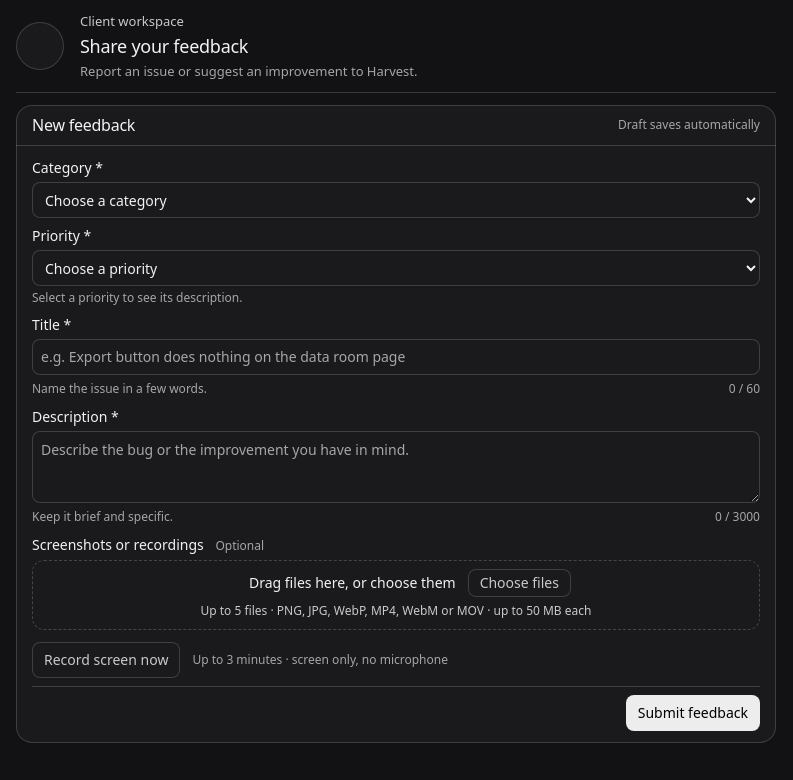
it: blocks double submission and preserves form/draft when create fails
Select "Data room" in the dropdown labelled "Category *" at (396, 200), box [32,182,760,218]
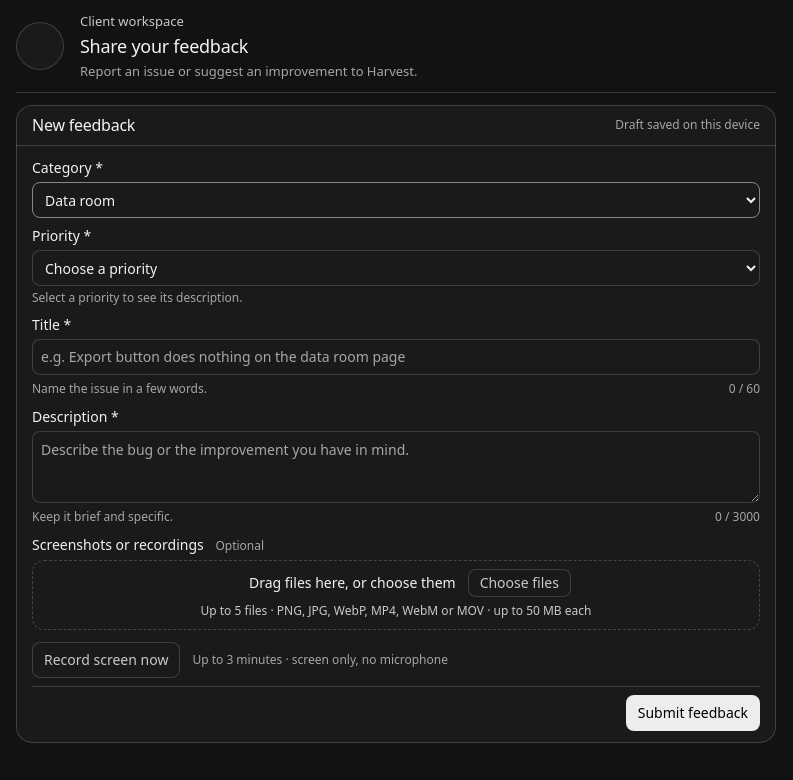
Select "Bug" in the dropdown labelled "Priority *" at (396, 268), box [32,250,760,286]
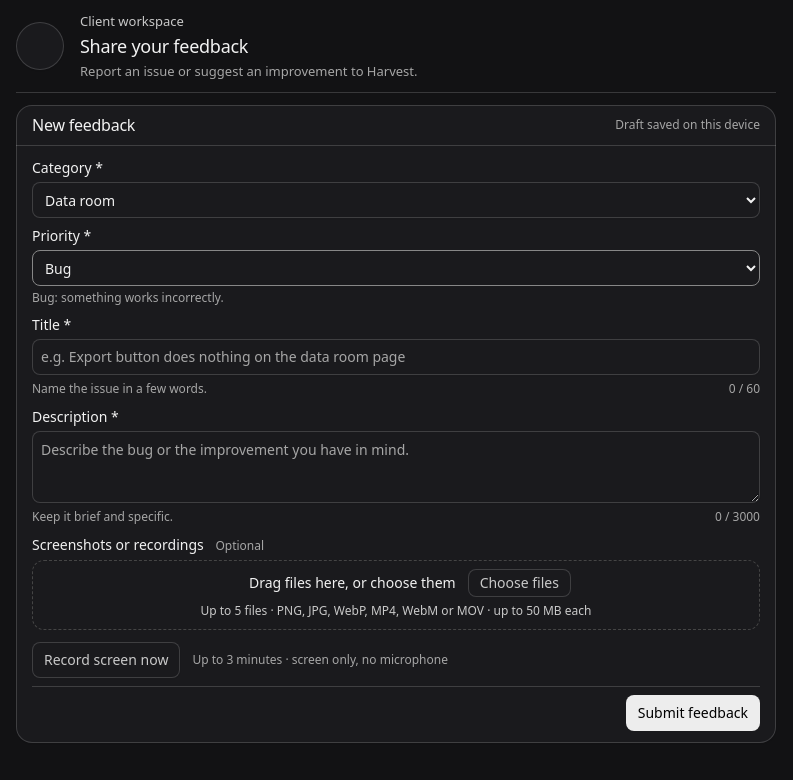
Type "Signed document download fails" into the field labelled "Title *" at (396, 357), box [32,339,760,375]
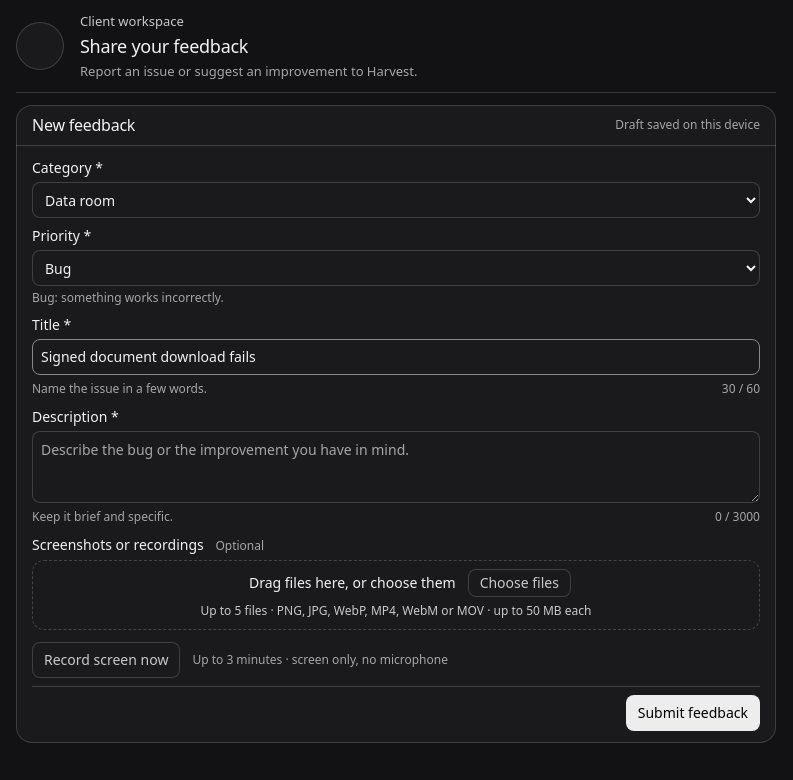
Type "Download fails for signed document" into the text box labelled "Description *" at (396, 467), box [32,431,760,503]
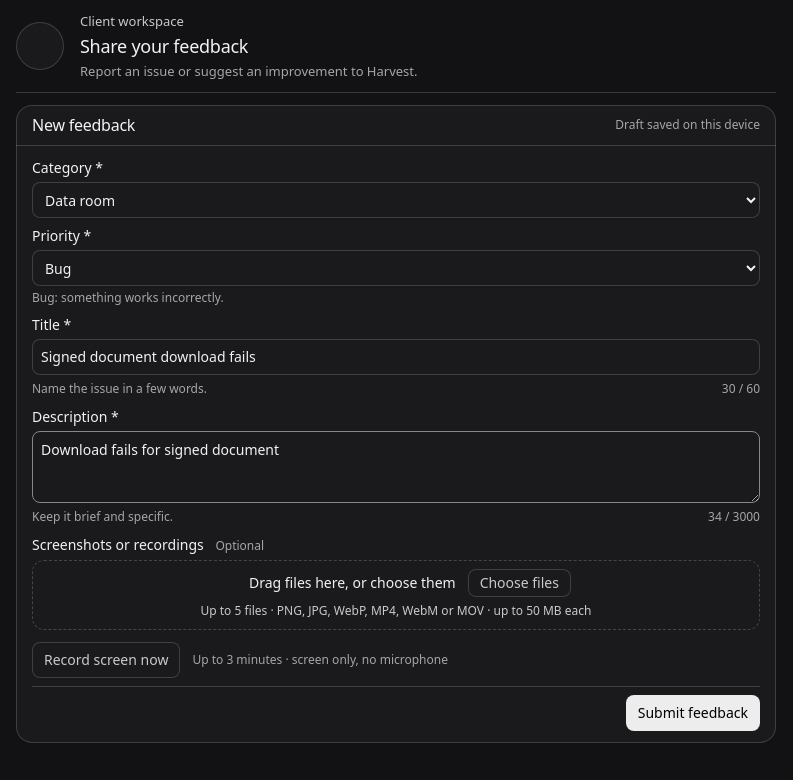
Click the button "Submit feedback" at (693, 713), box [626,695,760,731]
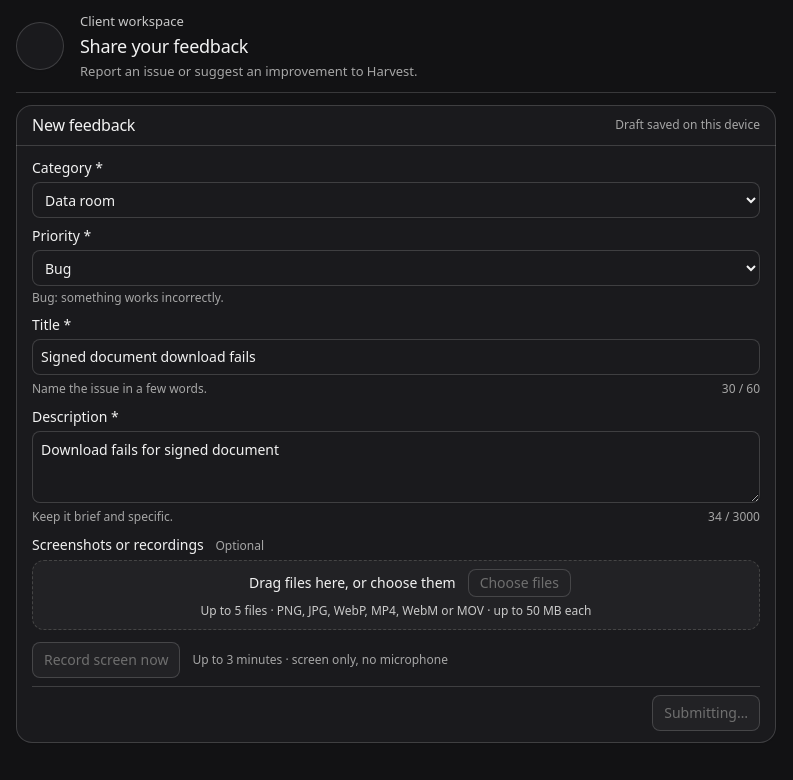
Expected: the button "Submitting…" is disabled, [652,695,760,731]
Submit the form named "Submitting…"
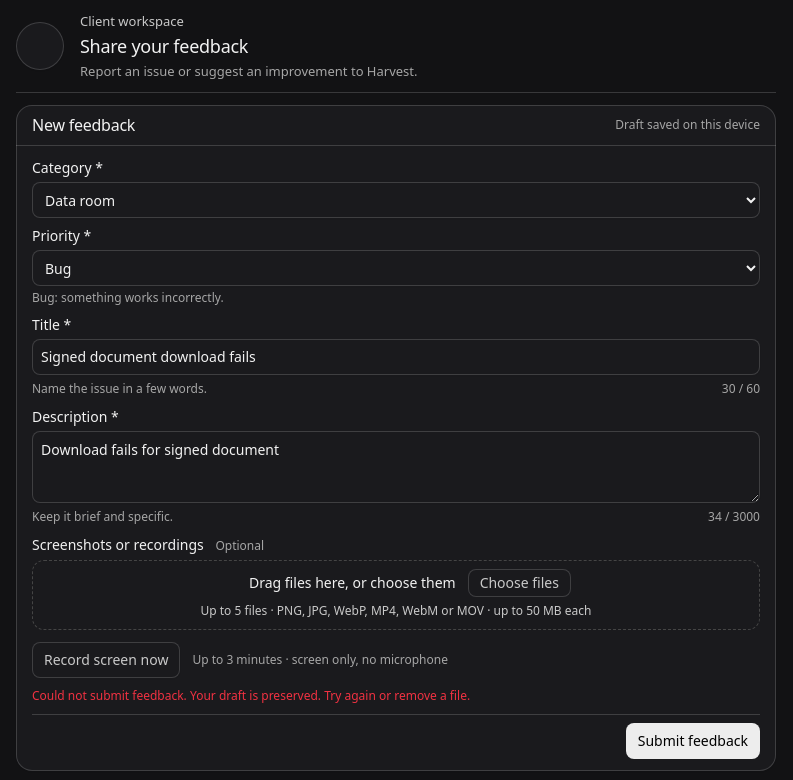
Expected: the 2nd message is shown, [32,687,470,704]
